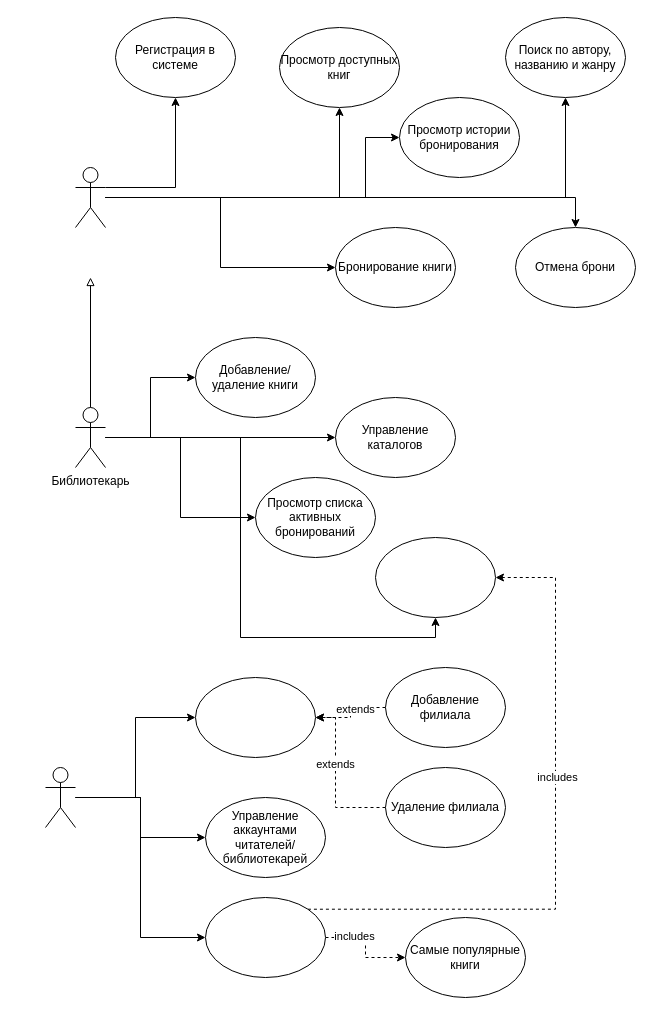
This 653x1015 diagram has some shape labels left out. The shapes that lost their labels are listed below. From the top down, each one's centre as x and y in pixels, then its label:
the point at 90,197: Читатель
the point at 435,577: Учет выданных и возвращенных книг
the point at 255,717: Управление филиалами библиотеки
the point at 60,797: Администратор
the point at 265,937: Просмотр аналитики
